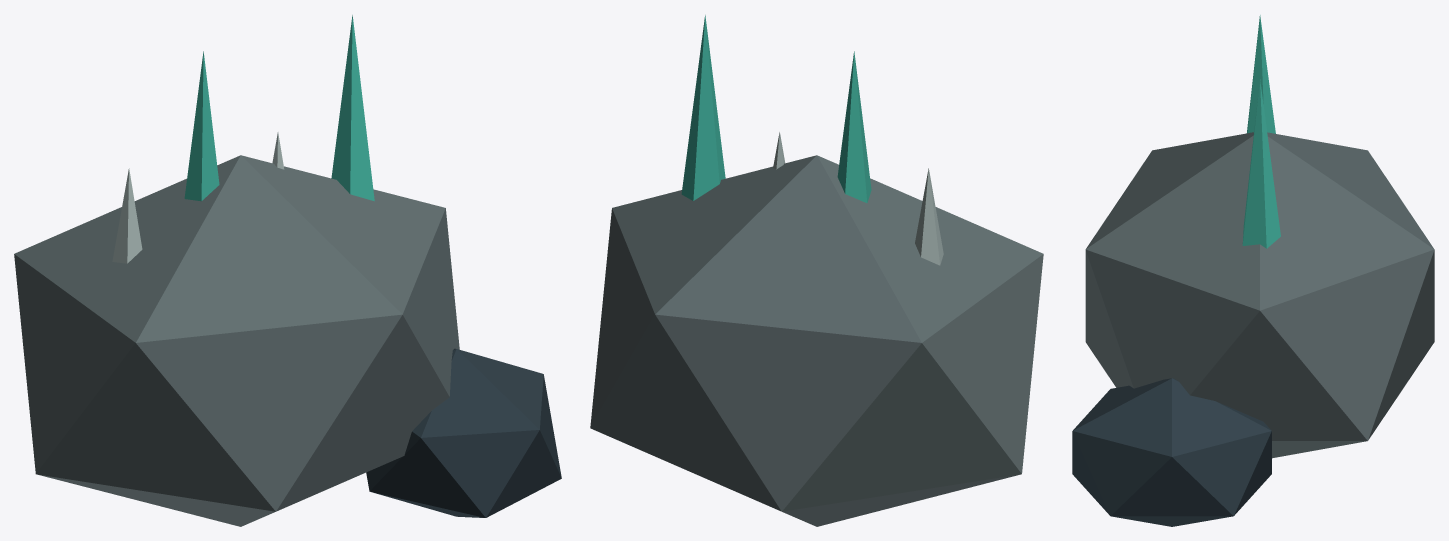
File: Rock2.fbx
3 renders of one model, left to right at view 1: azimuth 30°, elevation 25°; view 2: azimuth 150°, elevation 25°; view 3: azimuth 270°, elevation 25°, orthographic. The views are drawn at different scales.
Visible parts, largest first — view 1: Rock2_Mesh; view 2: Rock2_Mesh; view 3: Rock2_Mesh.
Boxes of the visible parts, x1=… form: Rock2_Mesh: x1=14, y1=15, x2=561, y2=526; Rock2_Mesh: x1=590, y1=15, x2=1043, y2=526; Rock2_Mesh: x1=1072, y1=15, x2=1434, y2=526.
Bounding box in the file's own units: 0.7998 × 0.81 × 0.6179.
